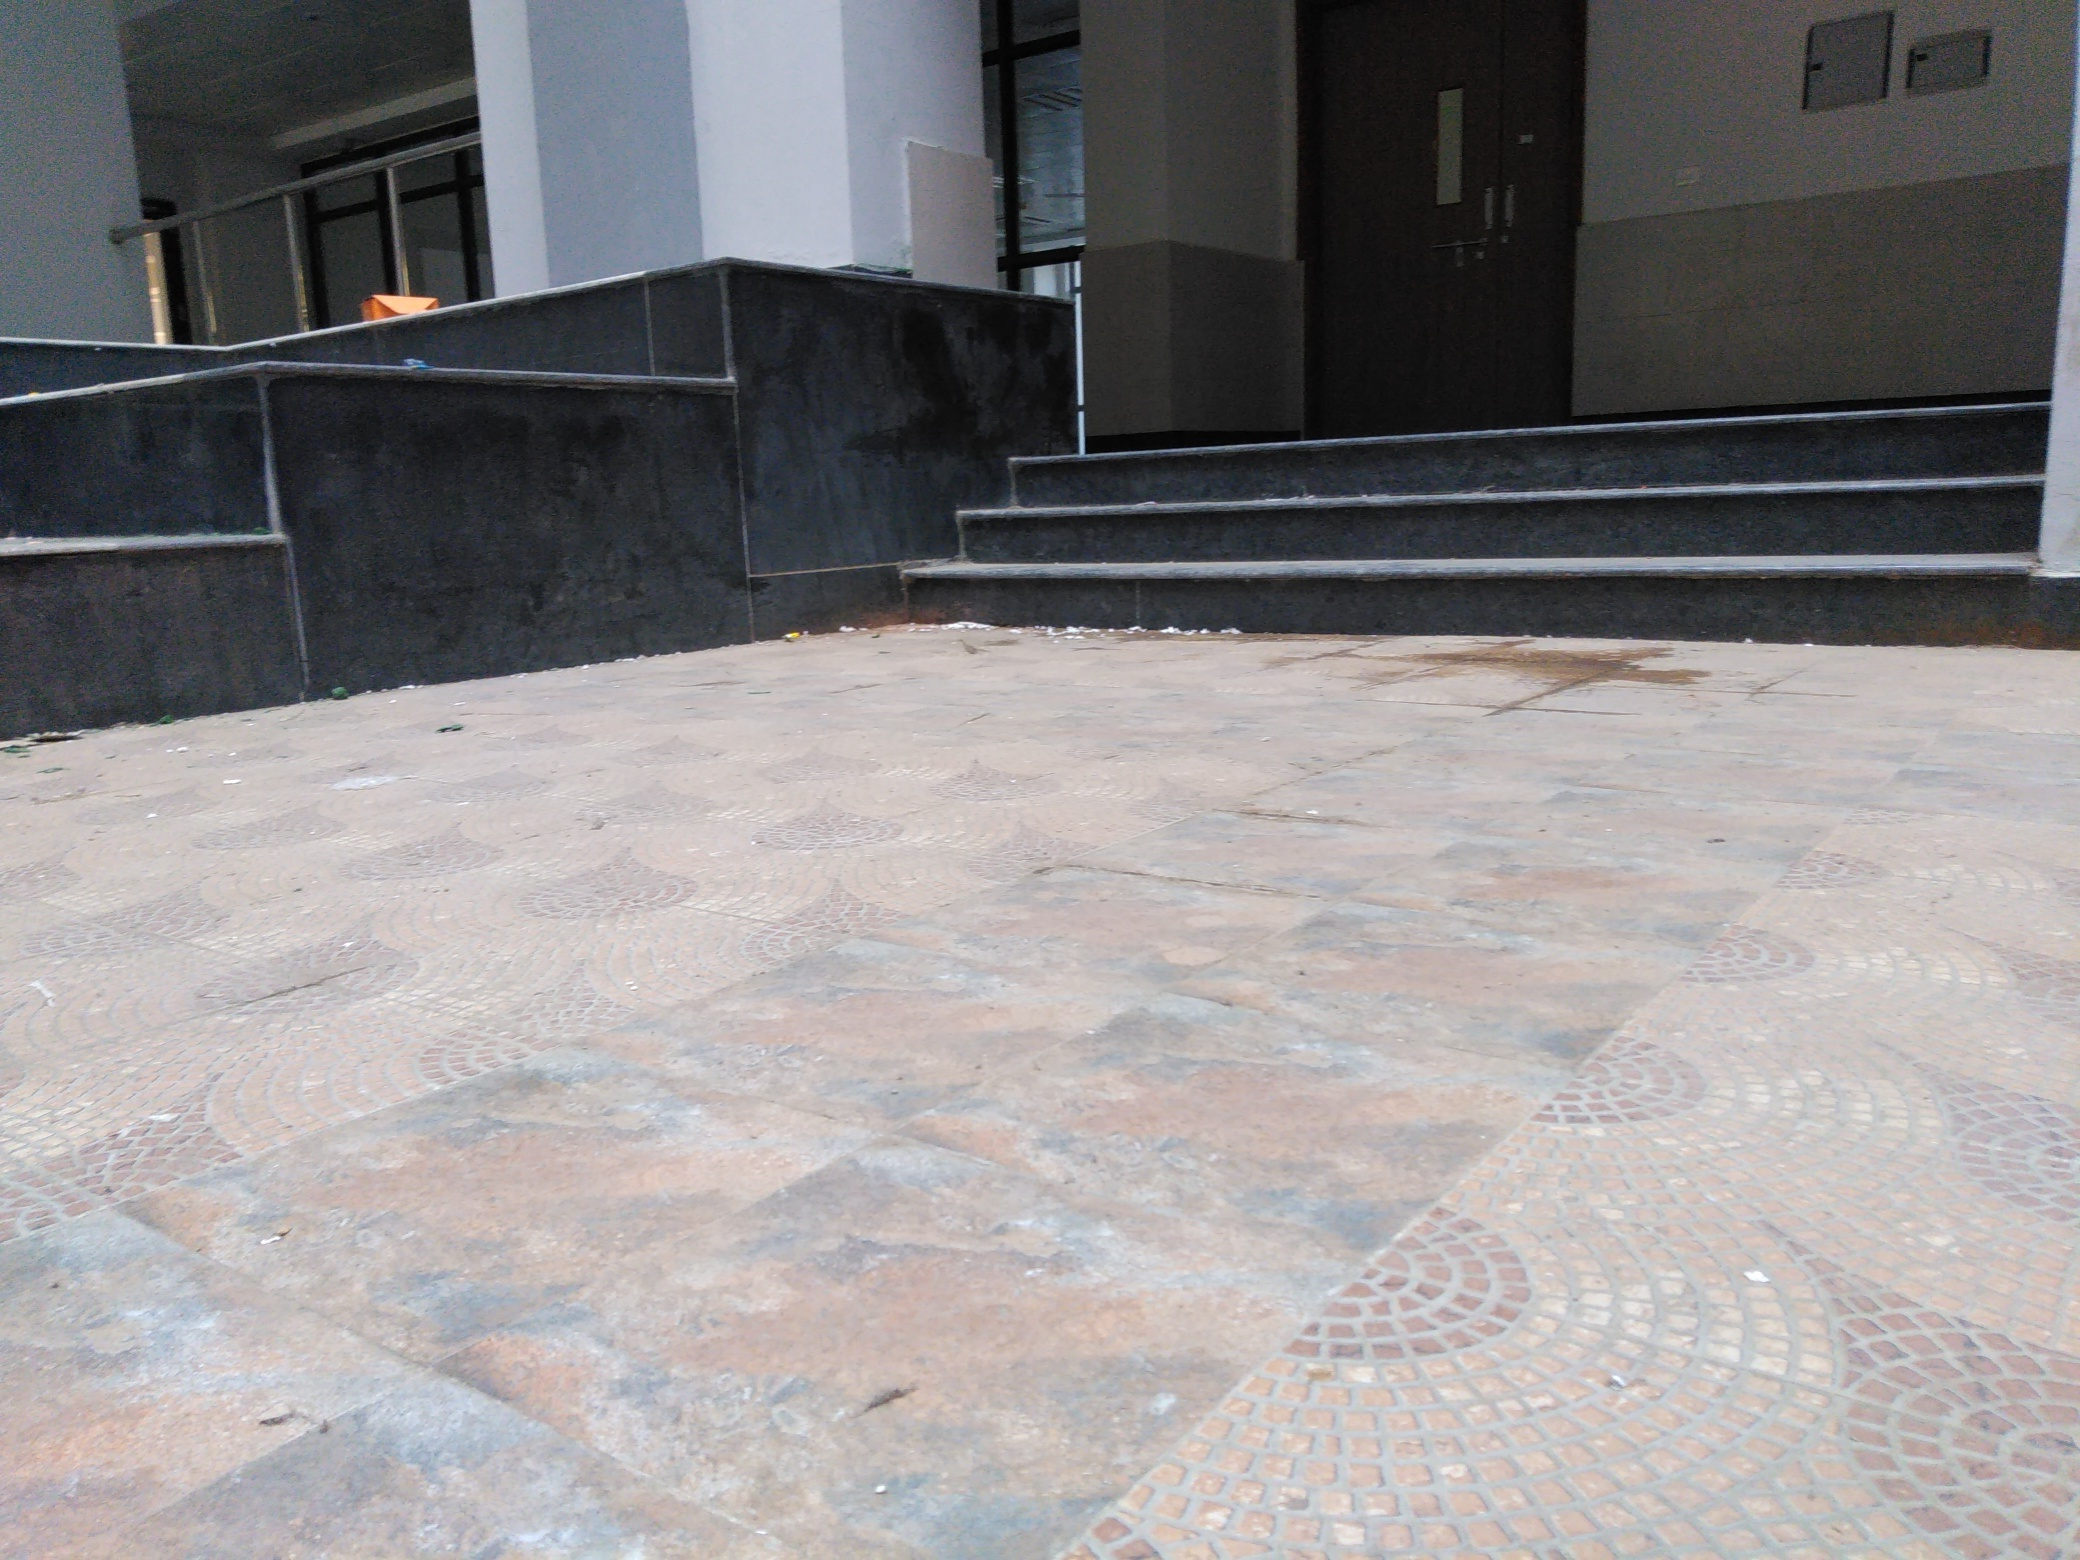stairs_up: (914, 393, 2047, 633)
